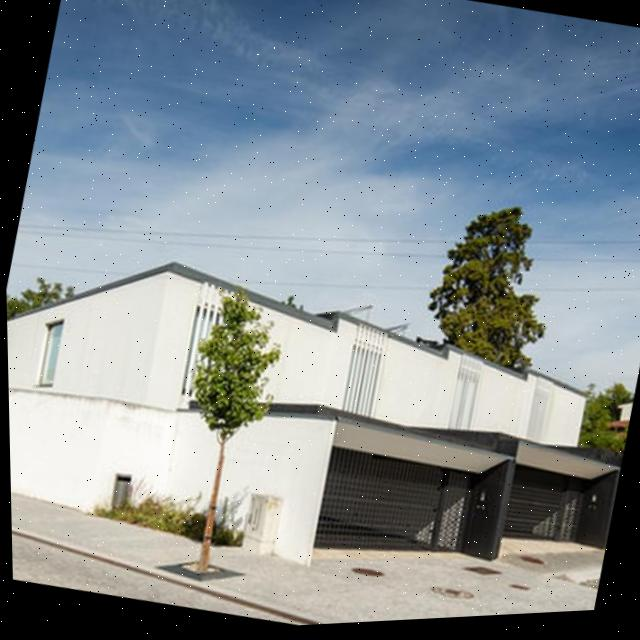building: (5, 200, 640, 633)
